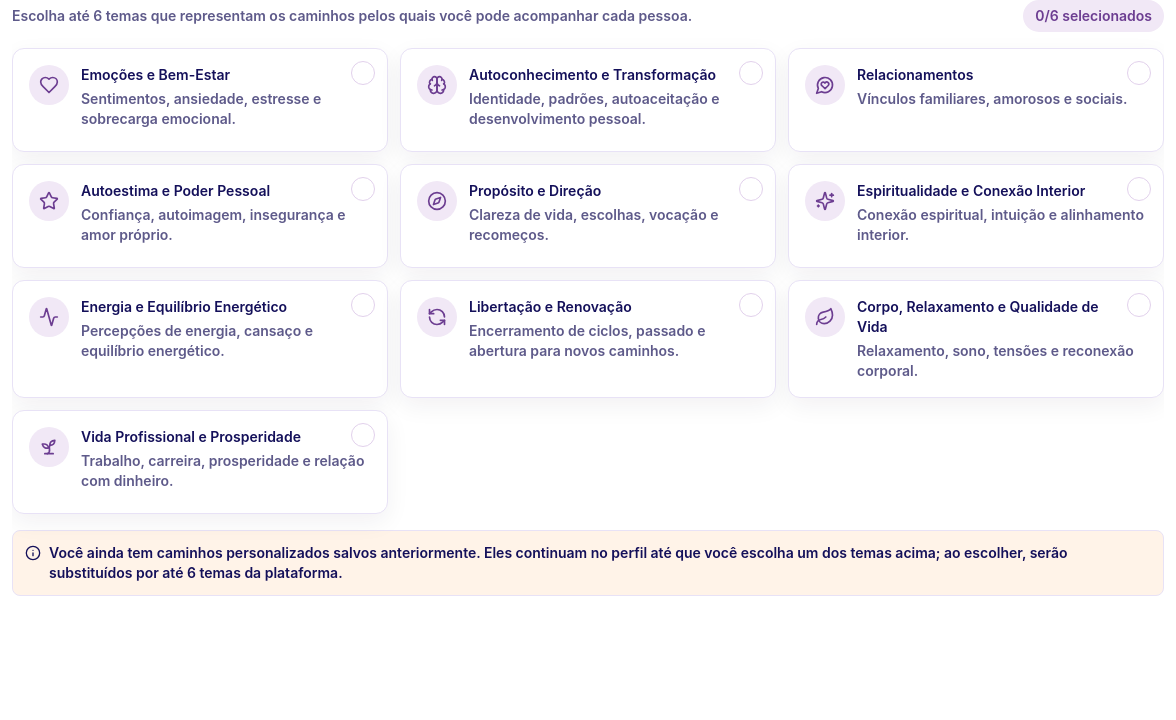
Test: ProfileGuideThemePicker › preserves legacy free-text paths until a platform theme is chosen
expect the text "caminhos personalizados salvos anteriormente" is shown: met, box x1=49 y1=544 x2=1068 y2=581
Click the button "Relacionamentos Vínculos familiares, amorosos e sociais." at (976, 100), box x1=788 y1=48 x2=1164 y2=152
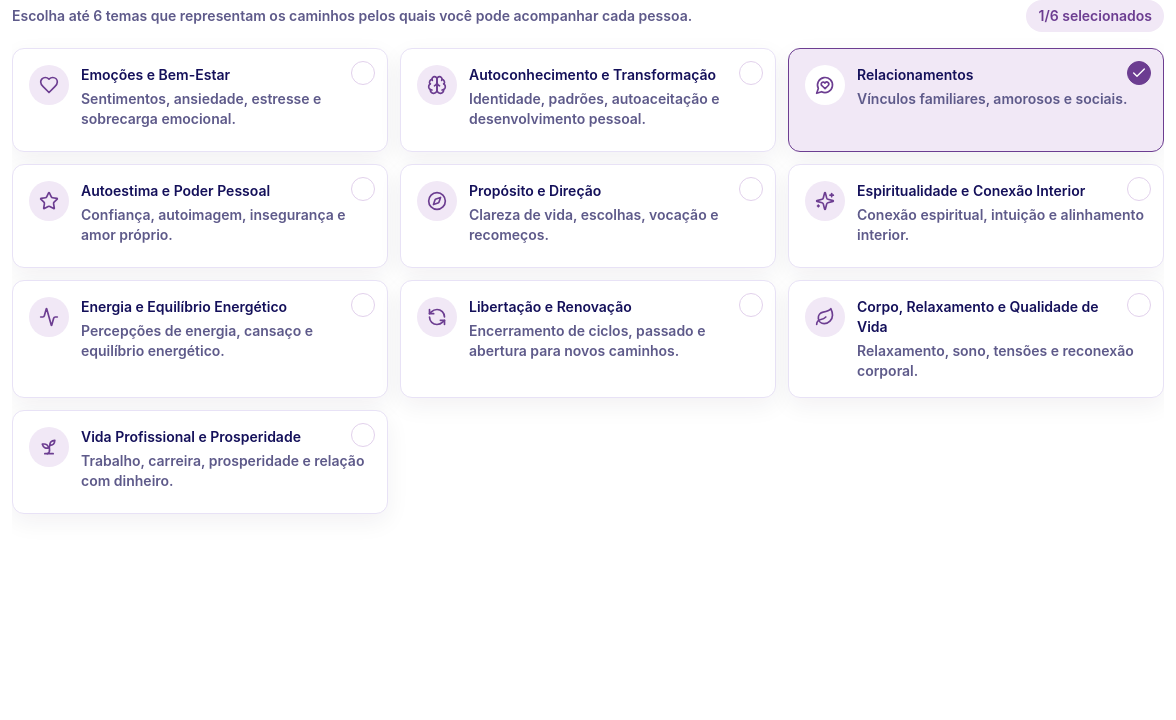
expect the text "caminhos personalizados salvos anteriormente" is gone: met
expect the text "1/6 selecionados" is shown: met, box x1=1026 y1=0 x2=1164 y2=32
